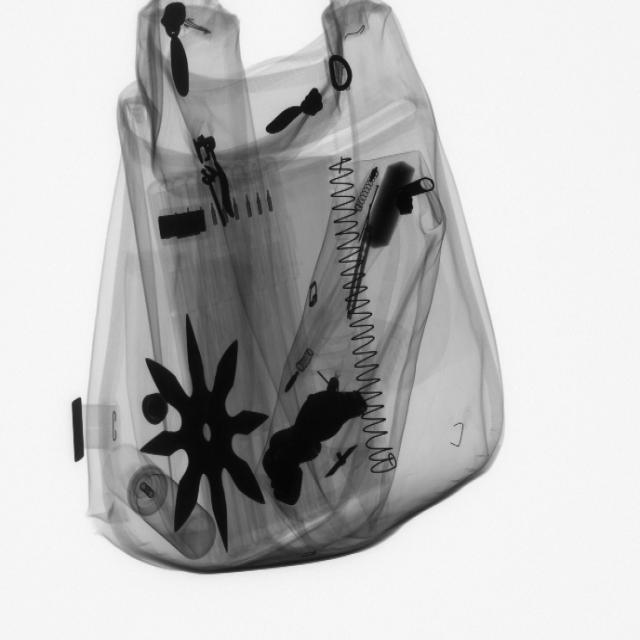BLADE: (350, 225, 376, 317)
SHURIKEN: (139, 312, 271, 551)
